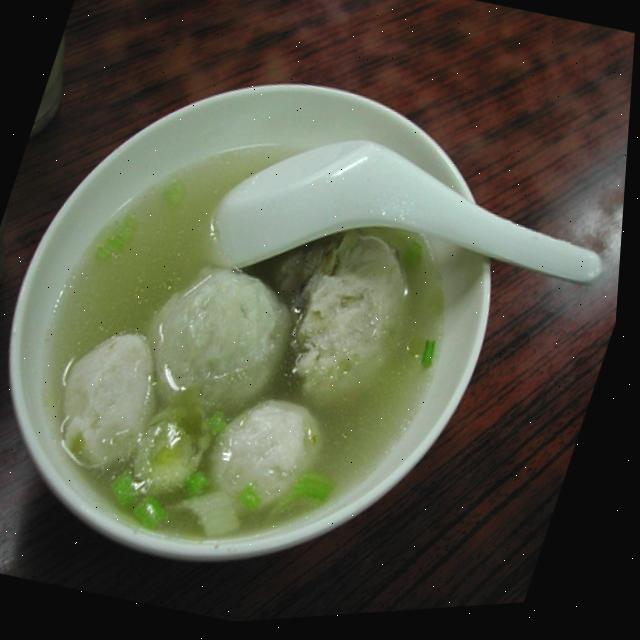熟制海鲜: (0, 1, 588, 633)
